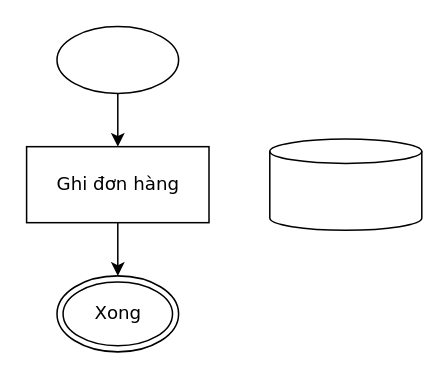
Image size: 448x378. Some labels were removed from this diagram. Each missing label, with the box of its shape:
DB.ORDER: (268, 138, 422, 230)
Vào: (55, 25, 179, 93)
